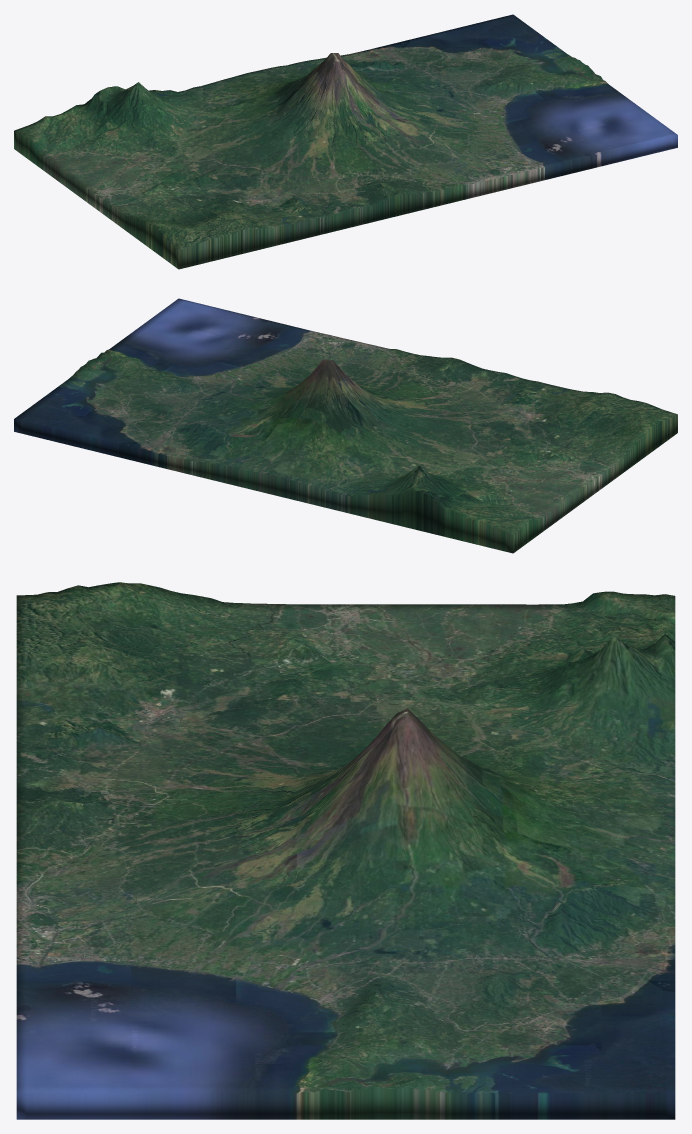
The model's file is mayon_volcano.glb.
The picture shows the model from 3 angles, top to bottom: view 1: azimuth 30°, elevation 25°; view 2: azimuth 150°, elevation 25°; view 3: azimuth 270°, elevation 25°; orthographic projection. The views are drawn at different scales.
Parts seen in each view (by area): view 1: EXPORT_GOOGLE_SAT_WM; view 2: EXPORT_GOOGLE_SAT_WM; view 3: EXPORT_GOOGLE_SAT_WM.
Part boxes in pixels (x1,y1,x2,y2): EXPORT_GOOGLE_SAT_WM: (14, 14, 677, 269); EXPORT_GOOGLE_SAT_WM: (14, 298, 677, 553); EXPORT_GOOGLE_SAT_WM: (16, 582, 675, 1119).
Bounding box in the file's own units: 6957 × 1117 × 3975.
Materials: 1 (1 with a texture image).
